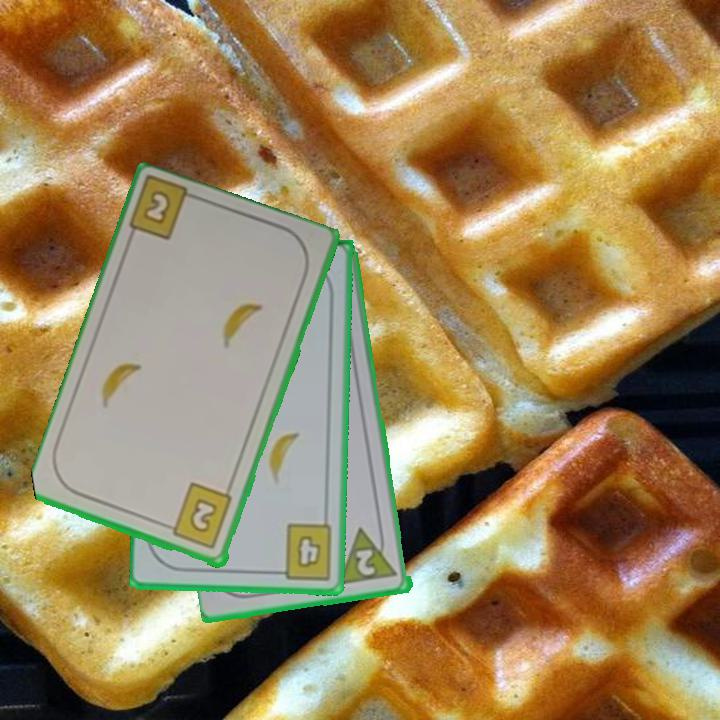2b: (161, 480, 235, 553), (139, 187, 174, 228)
2p: (353, 546, 379, 579)
4b: (271, 520, 336, 582)
